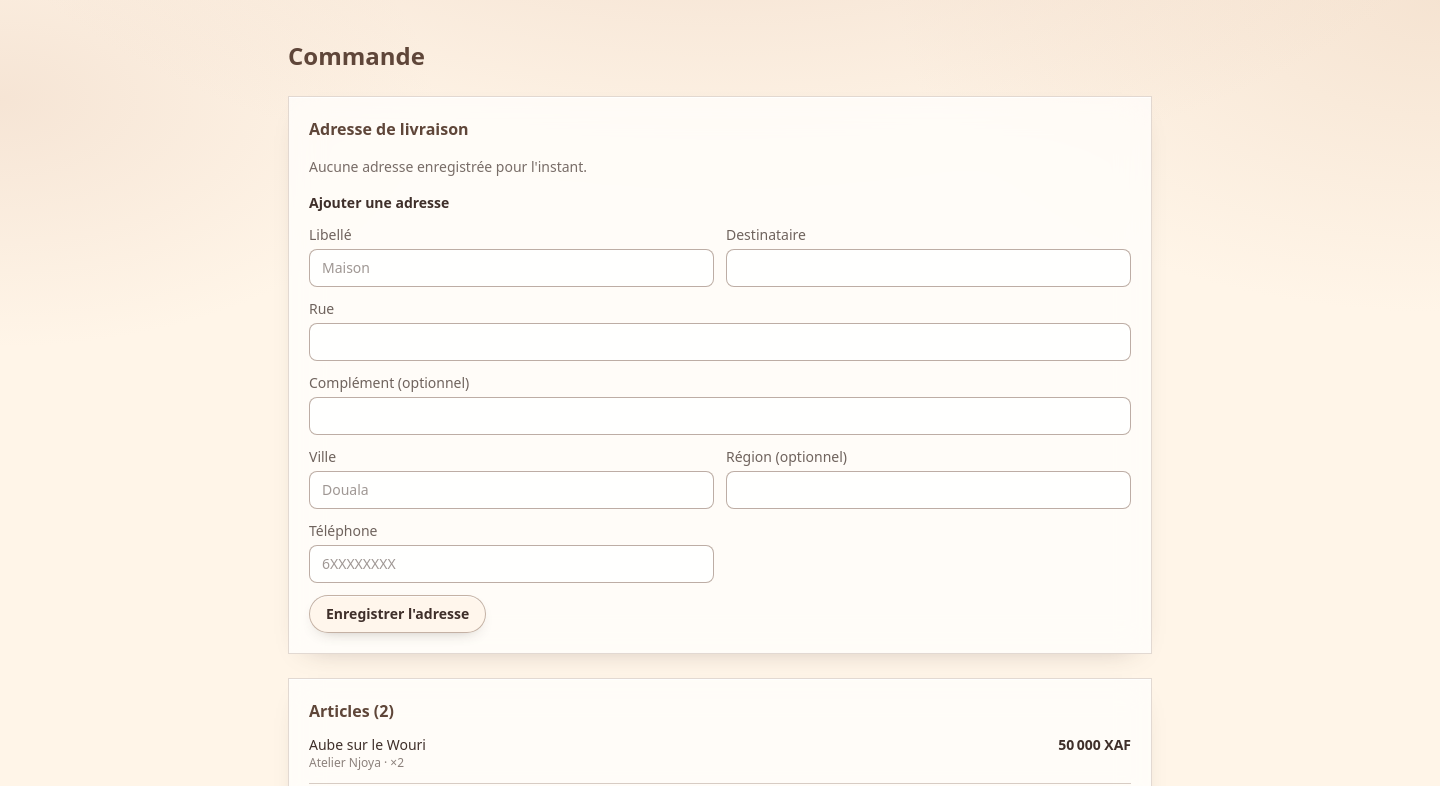
Test case: /checkout › crée une adresse via le mini-form et la sélectionne
The image size is (1440, 786).
Type "Bureau" into the field with placeholder "Maison".
click(512, 268); type("Bureau")  # box [309,249,714,287]
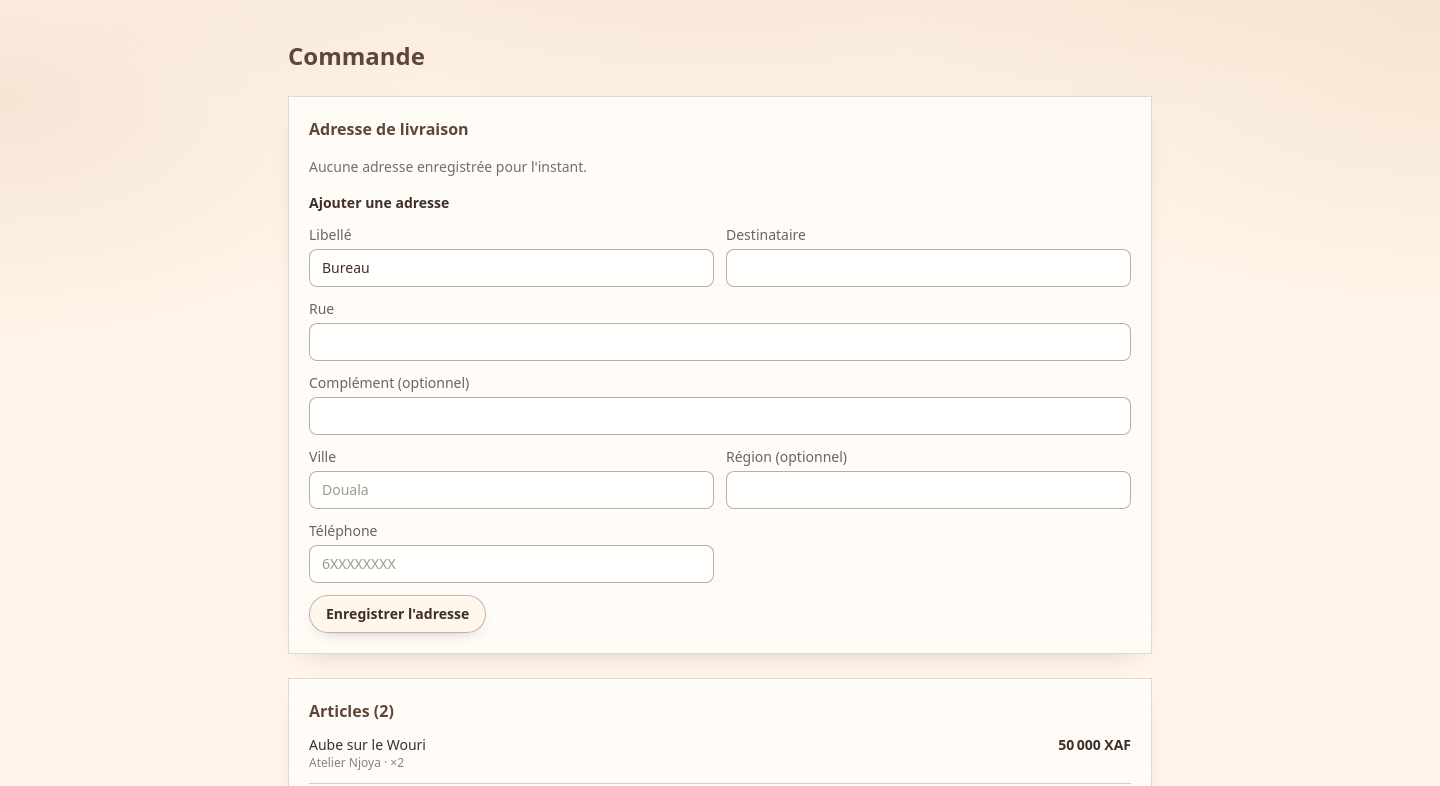
Type "Jean" into the field labelled "Destinataire".
click(928, 268); type("Jean")  # box [726,249,1131,287]
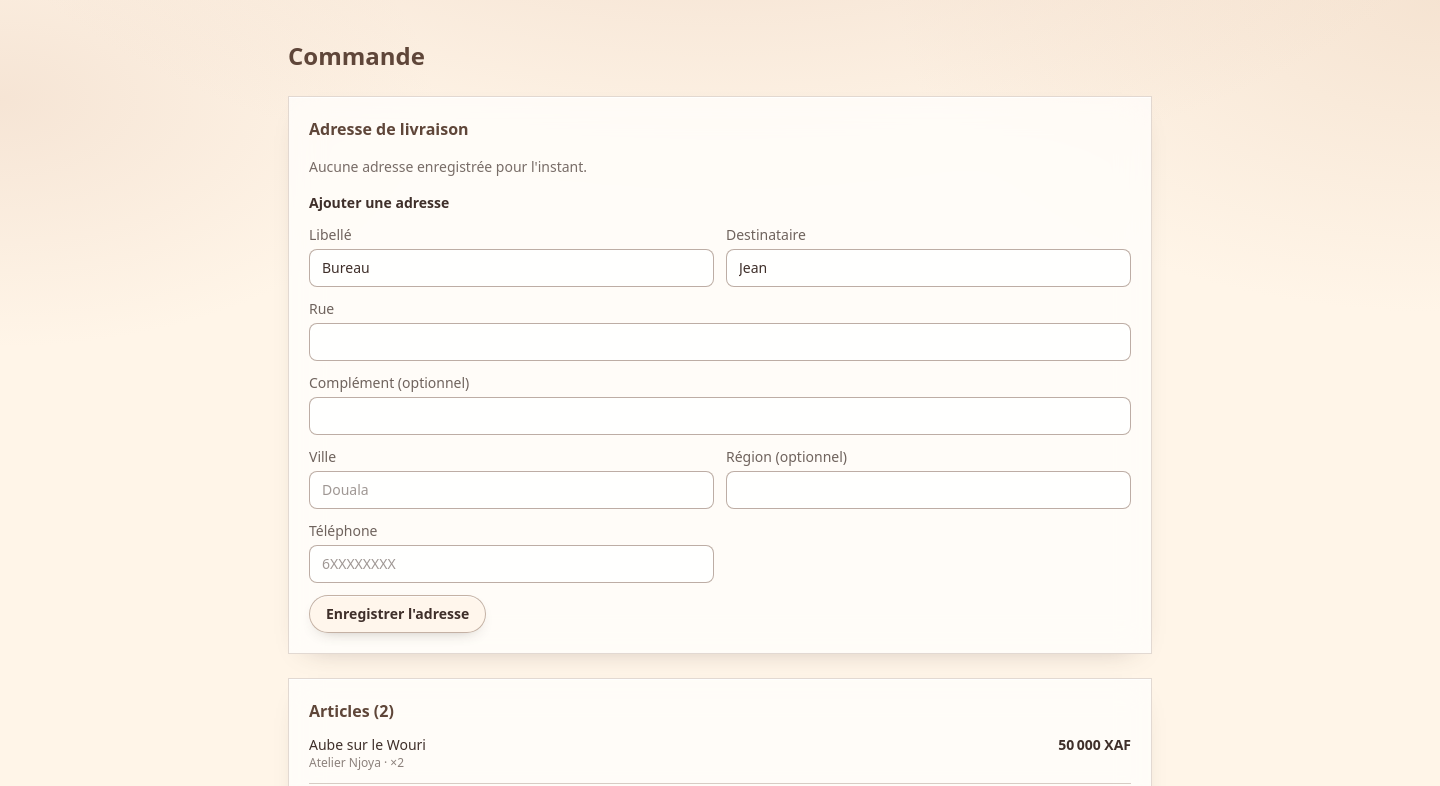
Submit the form named "Enregistrer l'adresse", box [309,193,1131,633]
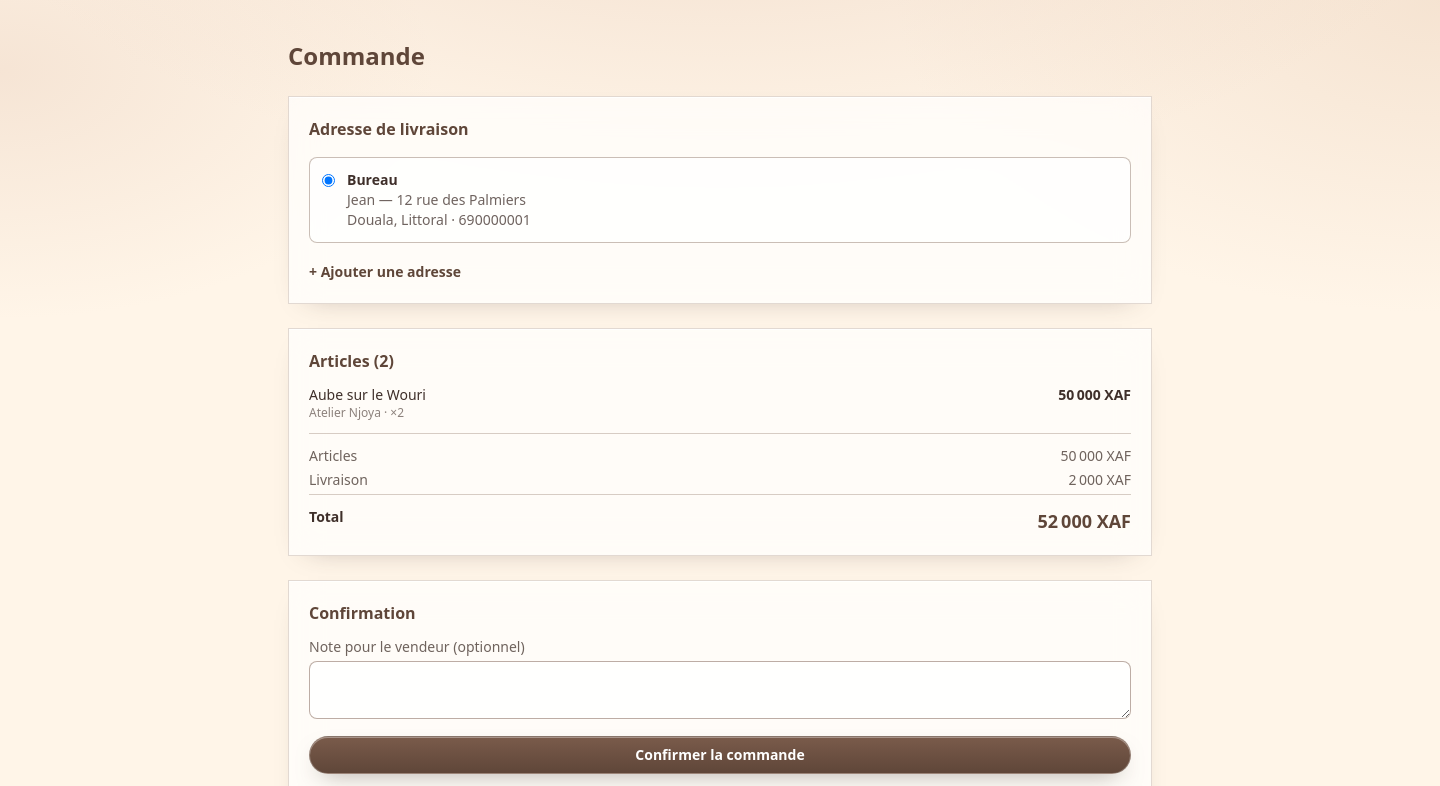
Expected: the radio button labelled "Bureau" is checked, [322,174,335,187]
